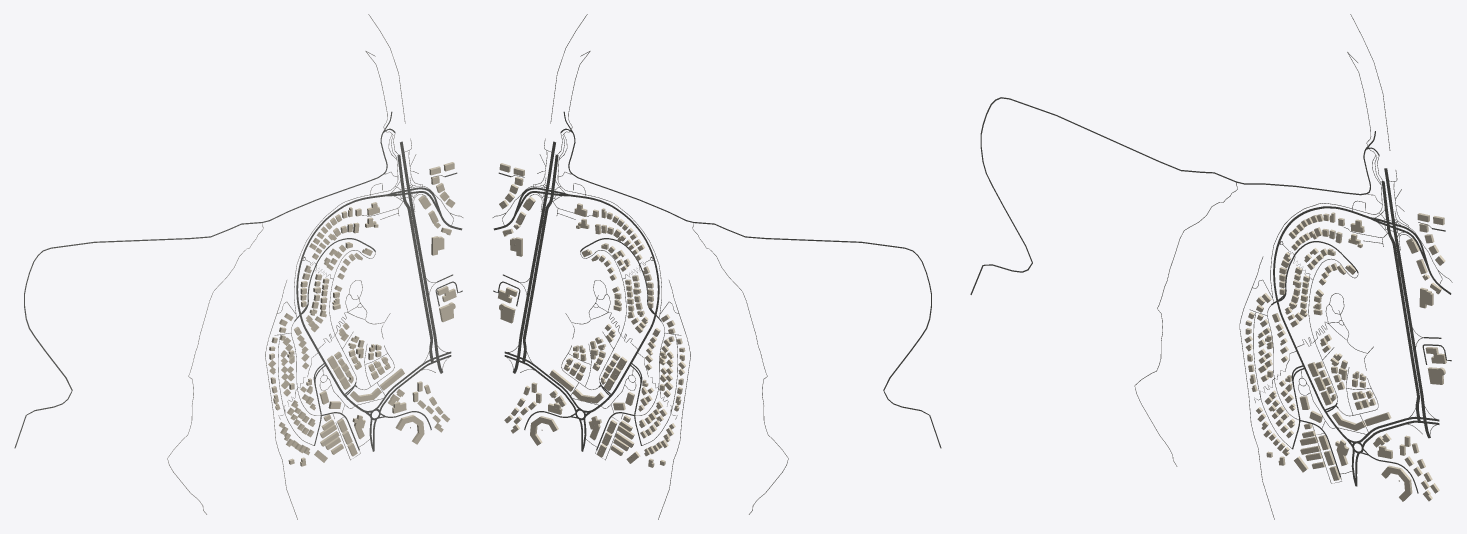
Rendered from historic-palestine-10_24_3518_3182.glb.
3 renders of one model, left to right at view 1: azimuth 30°, elevation 25°; view 2: azimuth 150°, elevation 25°; view 3: azimuth 330°, elevation 25°, orthographic. The views are drawn at different scales.
Visible parts, largest first — view 1: Road, Road המשורר אצ"ג.003, Road שדרות גולדה מאיר.005; view 2: Road, Road המשורר אצ"ג.003, Road שדרות גולדה מאיר.005; view 3: Road, Road המשורר אצ"ג.003, Road שדרות גולדה מאיר.005.
Part boxes in pixels (bbox=[...]): Road: bbox=[14, 133, 387, 448]; Road המשורר אצ"ג.003: bbox=[296, 196, 369, 412]; Road שדרות גולדה מאיר.005: bbox=[409, 202, 437, 343]; Road: bbox=[568, 133, 941, 448]; Road המשורר אצ"ג.003: bbox=[586, 196, 659, 412]; Road שדרות גולדה מאיר.005: bbox=[518, 202, 546, 343]; Road: bbox=[970, 97, 1370, 294]; Road המשורר אצ"ג.003: bbox=[1273, 206, 1352, 439]; Road שדרות גולדה מאיר.005: bbox=[1394, 238, 1424, 402].
Size of the model in its own units: 1243 by 1292 by 10.5.
